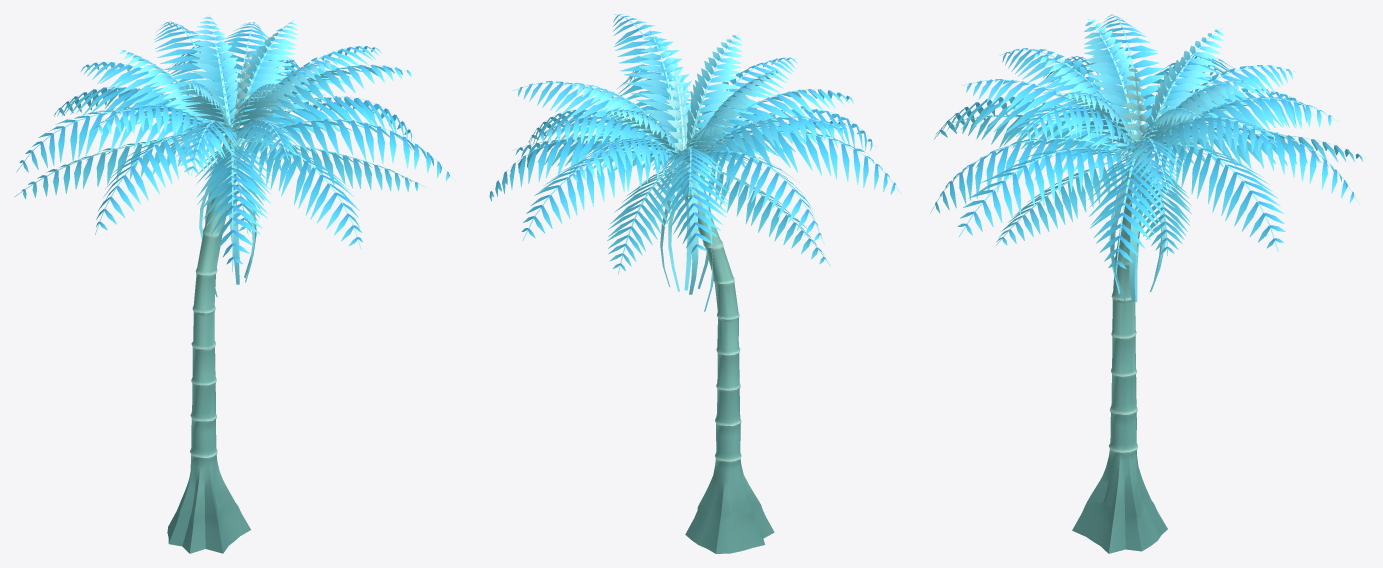
The model's file is alien_tree_lod0.glb.
3 views of the same model, side by side, from view 1: azimuth 30°, elevation 25°; view 2: azimuth 150°, elevation 25°; view 3: azimuth 270°, elevation 25° (orthographic). The views are drawn at different scales.
Visible parts, largest first — view 1: AlienTree; view 2: AlienTree; view 3: AlienTree.
Part boxes in pixels (bbox=[...]): AlienTree: bbox=[14, 14, 455, 553]; AlienTree: bbox=[489, 14, 901, 553]; AlienTree: bbox=[930, 14, 1365, 553].
Bounding box in the file's own units: 3.83 × 4.88 × 3.89.
